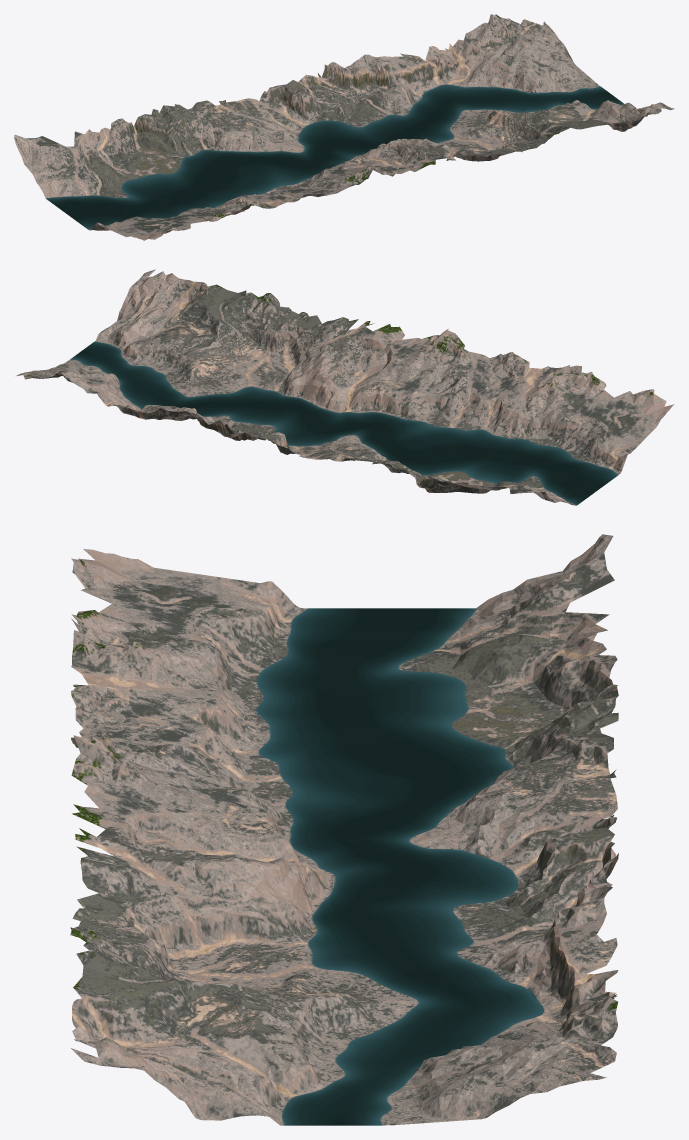
Rendered from MountFinally3 1.fbx.
3 views of the same model, one above another, from view 1: azimuth 30°, elevation 25°; view 2: azimuth 150°, elevation 25°; view 3: azimuth 270°, elevation 25° (orthographic). The views are drawn at different scales.
Visible parts, largest first — view 1: Mesher.001; view 2: Mesher.001; view 3: Mesher.001.
Boxes of the visible parts, bbox=[...] form: Mesher.001: bbox=[14, 14, 674, 240]; Mesher.001: bbox=[16, 269, 674, 505]; Mesher.001: bbox=[70, 534, 618, 1125].
Size of the model in its own units: 100 by 8.71 by 44.82.
Materials: 1 (1 with a texture image).
